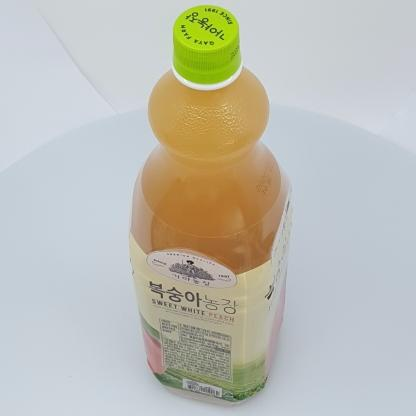-------1-5L: (128, 5, 293, 407)
